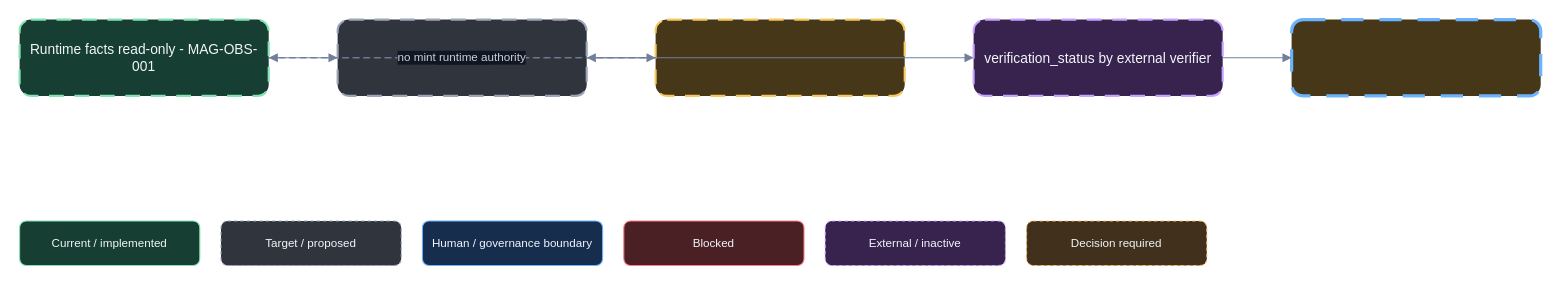
The diagram is 1560 pixels wide and 284 high, and some of its shapes have lost their labels. The box of each missing label's shape, as (x1, y1, x2, y2) in pixels:
Engineering artifacts - MAG-TRC-201: (654, 18, 905, 96)
Independent verifier separate identity - MAG-TRC-202: (336, 18, 587, 96)
Vinay accepts - MAG-GOV-003: (1289, 17, 1542, 97)
